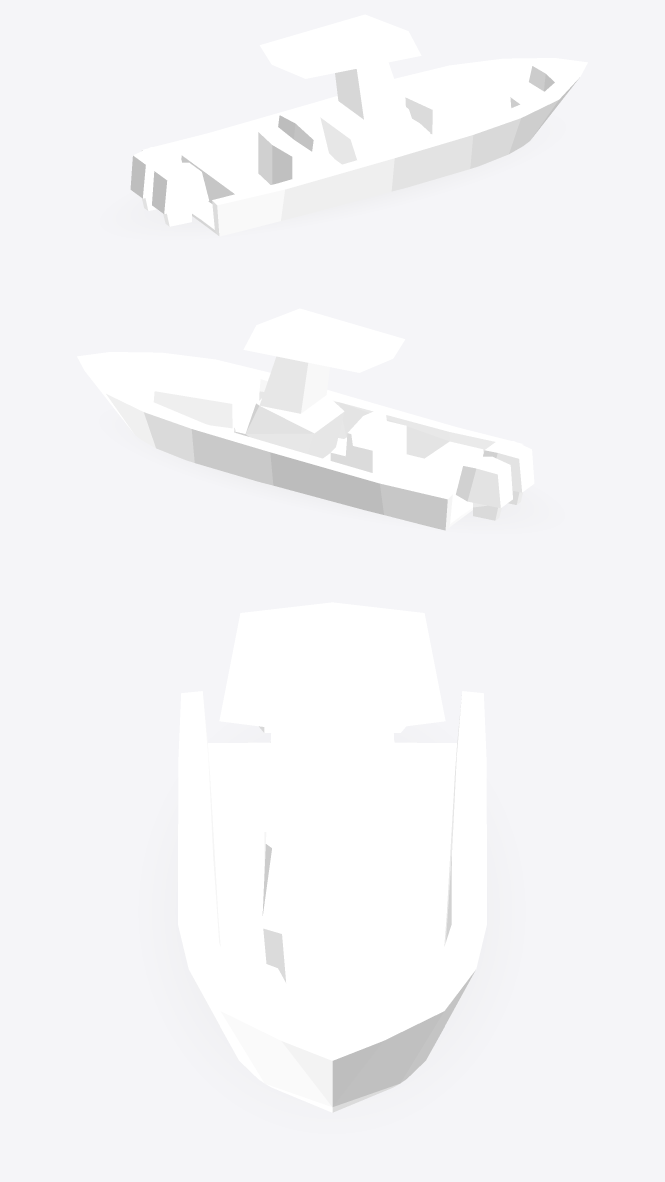
The model's file is AIS-BOAT_CenterConsole_A_001.glb.
3 renders of one model, top to bottom at view 1: azimuth 30°, elevation 25°; view 2: azimuth 150°, elevation 25°; view 3: azimuth 270°, elevation 25°, orthographic. The views are drawn at different scales.
Parts seen in each view (by area): view 1: AIS_CenterConsole-A.002, SurfaceGraphic_whiteGlow.001; view 2: AIS_CenterConsole-A.002, SurfaceGraphic_whiteGlow.001; view 3: AIS_CenterConsole-A.002, SurfaceGraphic_whiteGlow.001.
Part boxes in pixels (x1,y1,x2,y2): AIS_CenterConsole-A.002: (130,14,587,236); SurfaceGraphic_whiteGlow.001: (137,149,518,229); AIS_CenterConsole-A.002: (77,308,534,530); SurfaceGraphic_whiteGlow.001: (149,445,527,523); AIS_CenterConsole-A.002: (178,602,486,1112); SurfaceGraphic_whiteGlow.001: (169,739,494,1074).
Bounding box in the file's own units: 10.69 × 2.66 × 3.93.
Materials: 2 (1 with a texture image).
